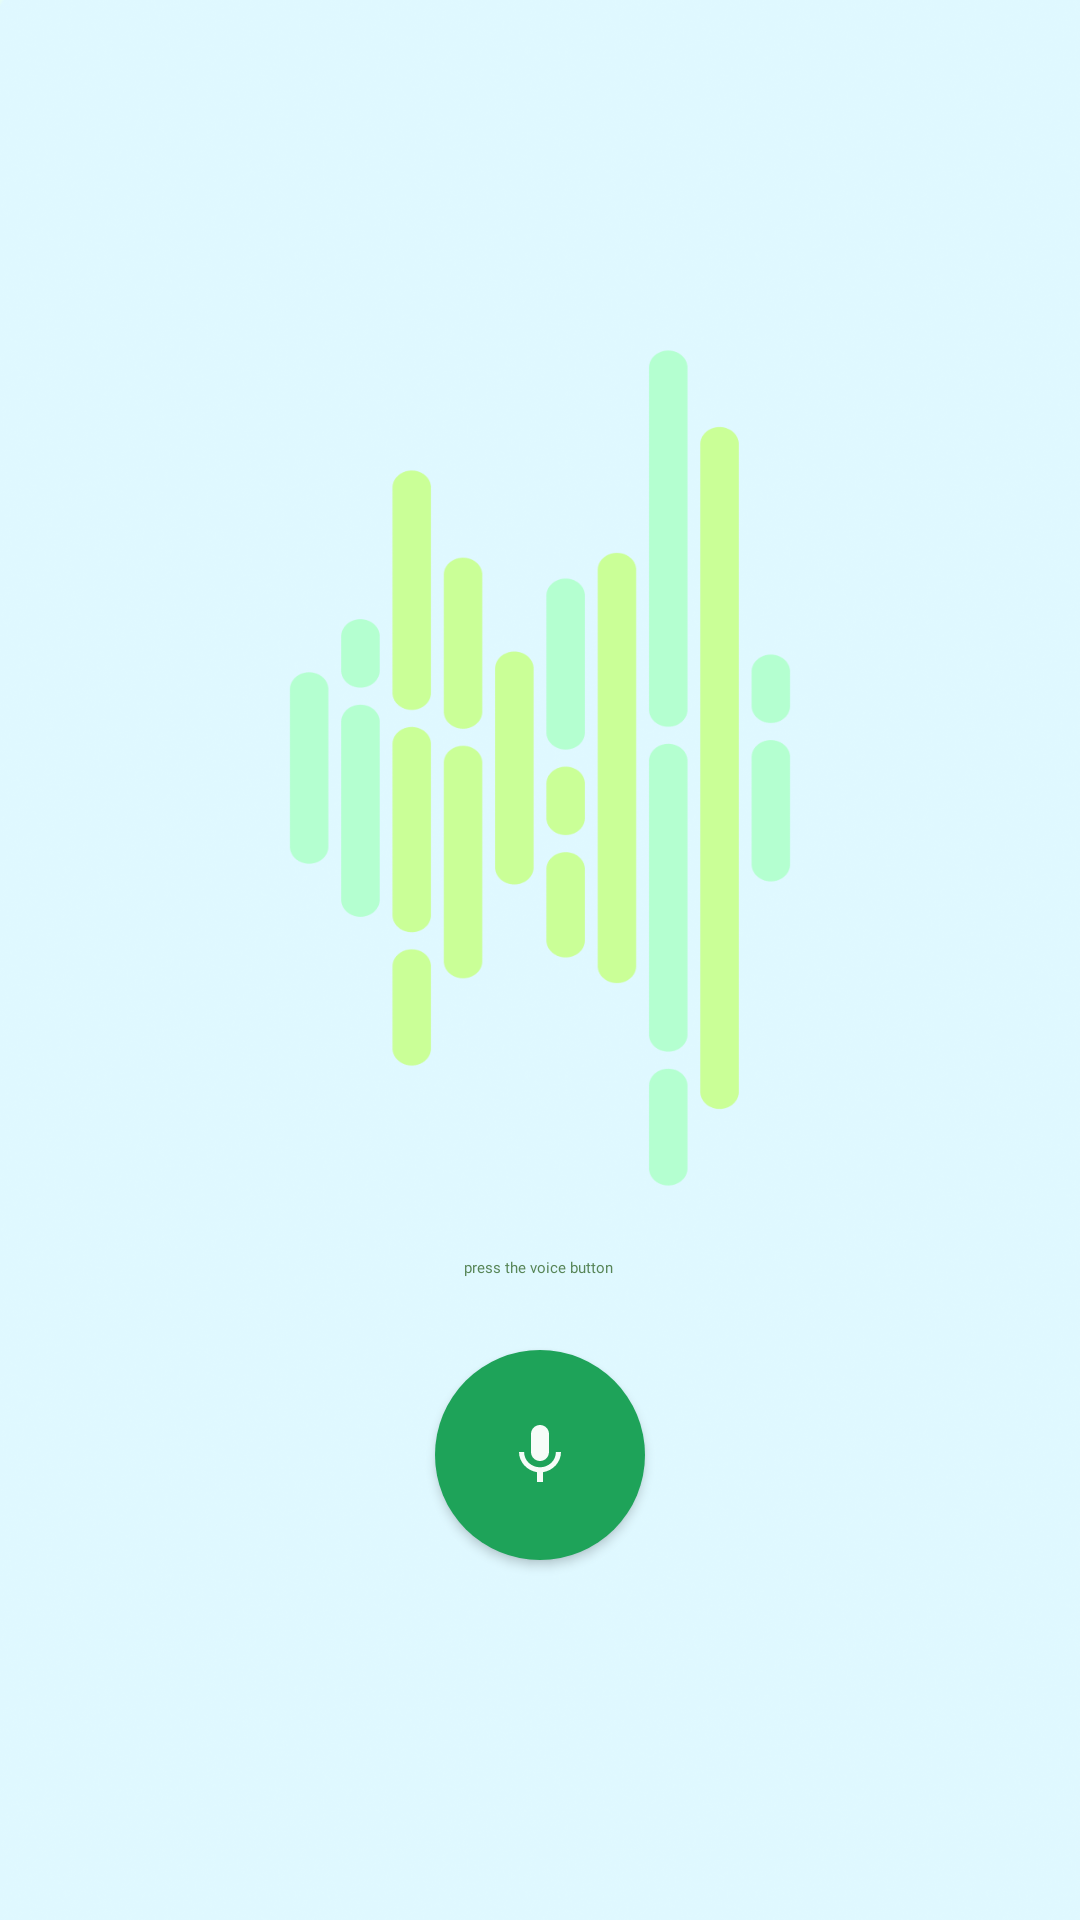

Icons on this 1080*1920 Android screen, each with the point to tap as (x,y):
mic: (540,1455)
